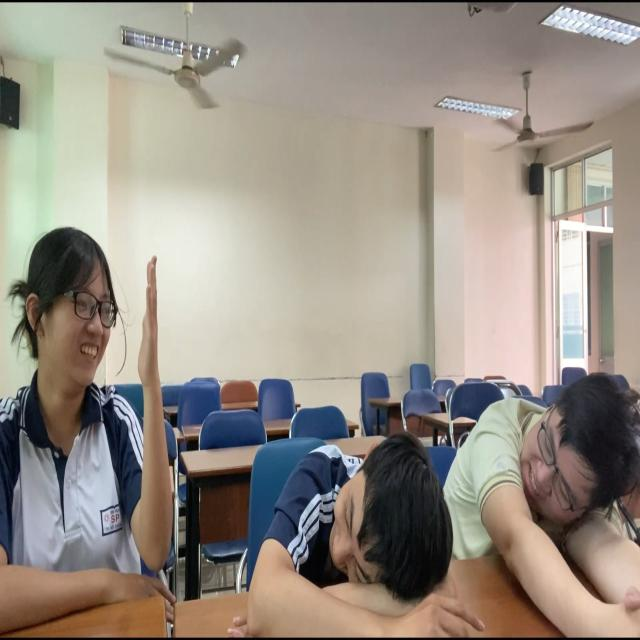raise_hand: (1, 175, 208, 640)
sleep: (238, 393, 505, 640), (423, 337, 640, 640)
